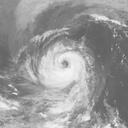cyclone: (37, 44, 92, 89)
